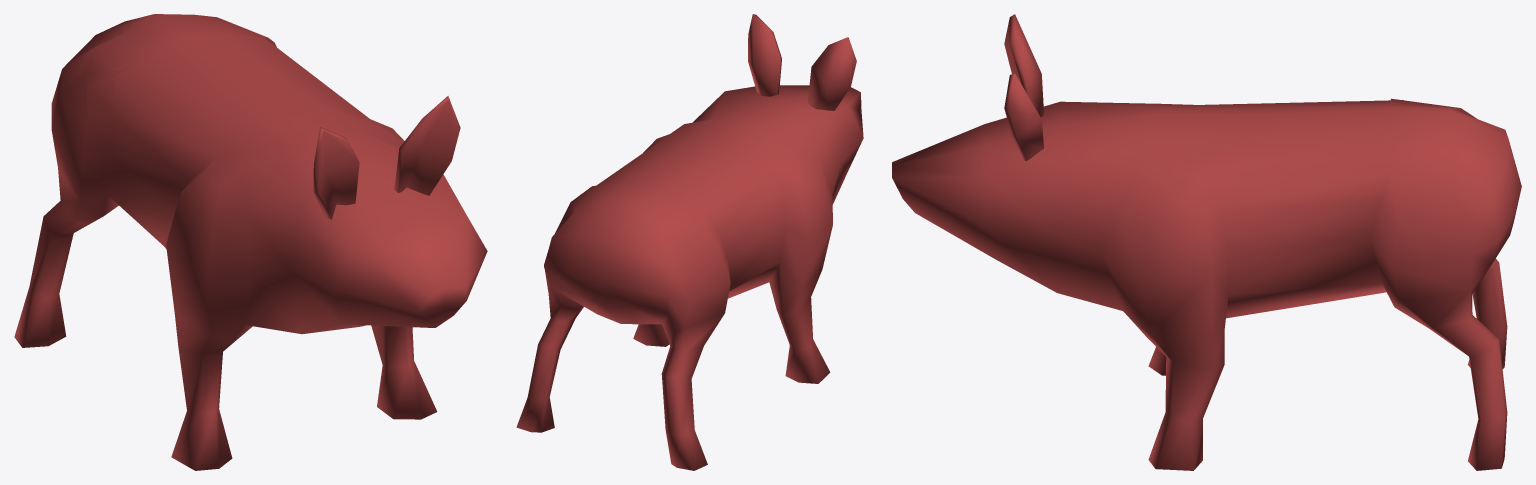
Rendered from pig.fbx.
3 views of the same model, side by side, from view 1: azimuth 30°, elevation 25°; view 2: azimuth 150°, elevation 25°; view 3: azimuth 270°, elevation 25° (orthographic). The views are drawn at different scales.
Parts seen in each view (by area): view 1: Merged_Meshes1; view 2: Merged_Meshes1; view 3: Merged_Meshes1.
Part boxes in pixels (<box>): Merged_Meshes1: <box>14,14,487,470</box>; Merged_Meshes1: <box>516,14,863,470</box>; Merged_Meshes1: <box>892,14,1521,470</box>.
Bounding box in the file's own units: 1.12 × 1.65 × 2.58.
